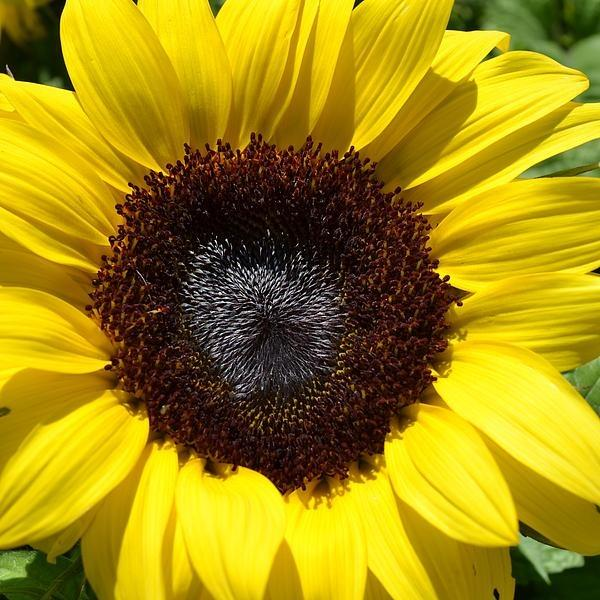sunflowers: (10, 4, 585, 585)
